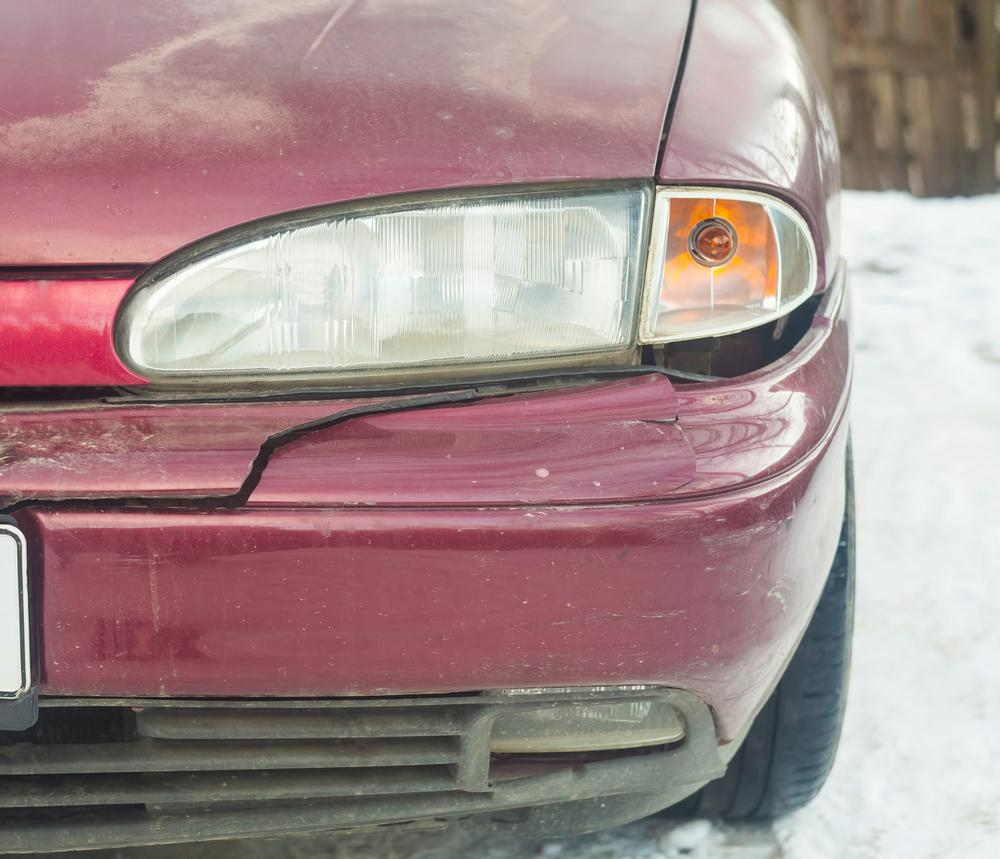crack: (0, 387, 546, 515), (629, 379, 702, 491)
